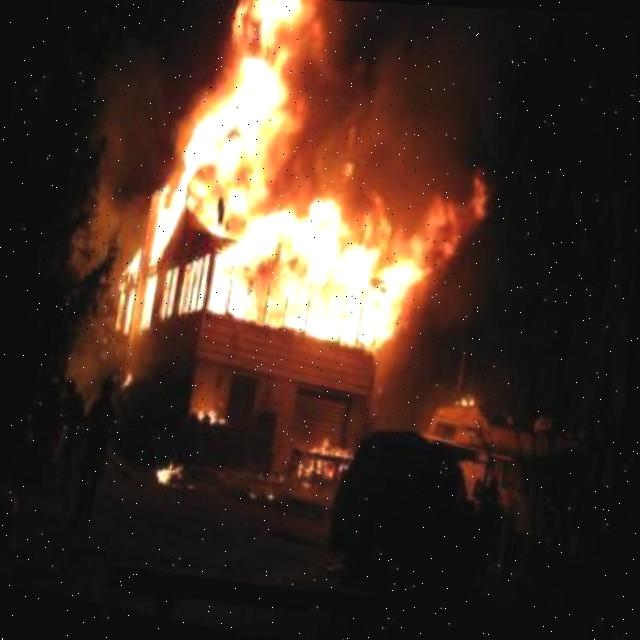fire: (112, 0, 327, 365), (303, 159, 501, 362), (291, 435, 361, 502), (193, 395, 237, 437), (148, 456, 188, 502), (444, 388, 486, 424)
